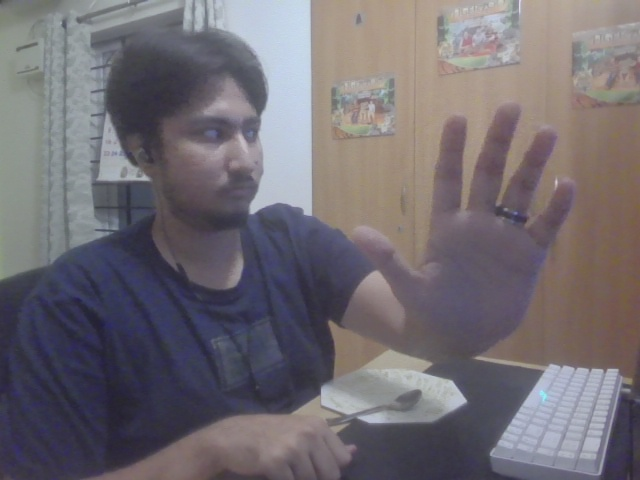hello: (346, 100, 583, 354)
